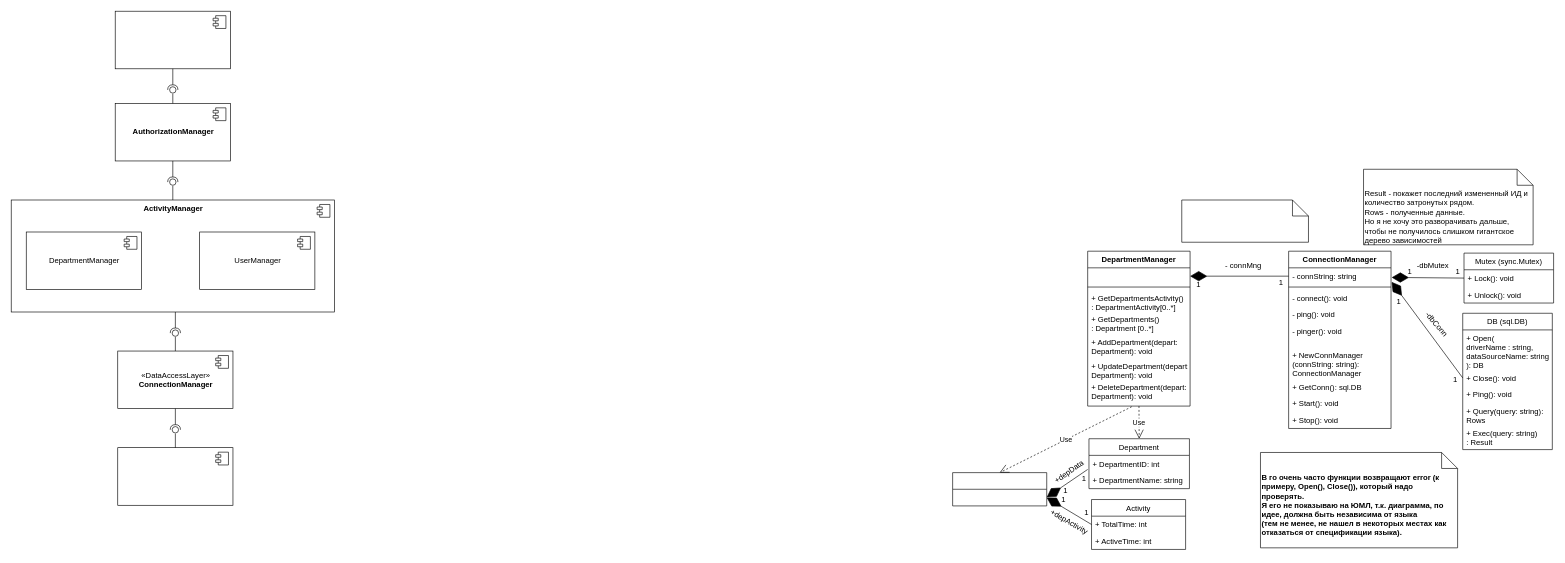
This 1565x563 diagram has some shape labels left out. Each missing label, with the centre of its shape:
ConnectionManager, будет полем ActivityManager: (1244,220)
DataBase: (175,476)
DepartmentActivity: (999,489)
«User Interface» ActivityAPI: (172,40)
